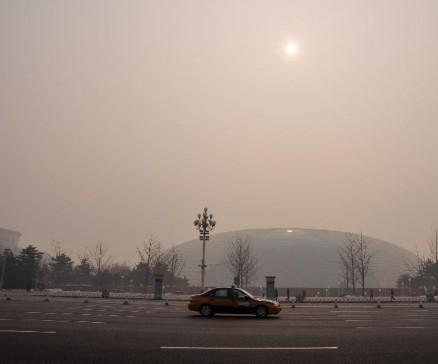car: (187, 285, 281, 318)
